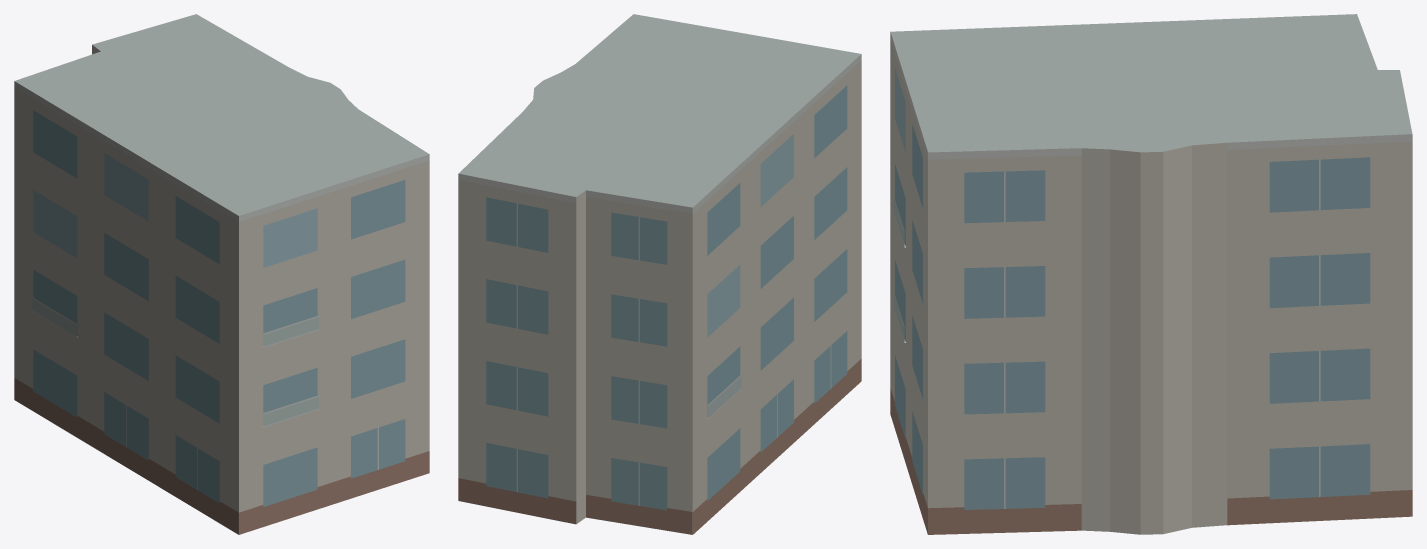
File: survey-upis-33003597.glb
The picture shows the model from 3 angles, left to right: view 1: azimuth 30°, elevation 25°; view 2: azimuth 150°, elevation 25°; view 3: azimuth 270°, elevation 25°; orthographic projection. The views are drawn at different scales.
Visible parts, largest first — view 1: survey-upis-33003597.tmp; view 2: survey-upis-33003597.tmp; view 3: survey-upis-33003597.tmp.
Part boxes in pixels (x1,y1,x2,y2): survey-upis-33003597.tmp: (14,14,429,534); survey-upis-33003597.tmp: (458,14,861,534); survey-upis-33003597.tmp: (890,14,1412,534).
Bounding box in the file's own units: 9.95 × 12.8 × 15.85.
